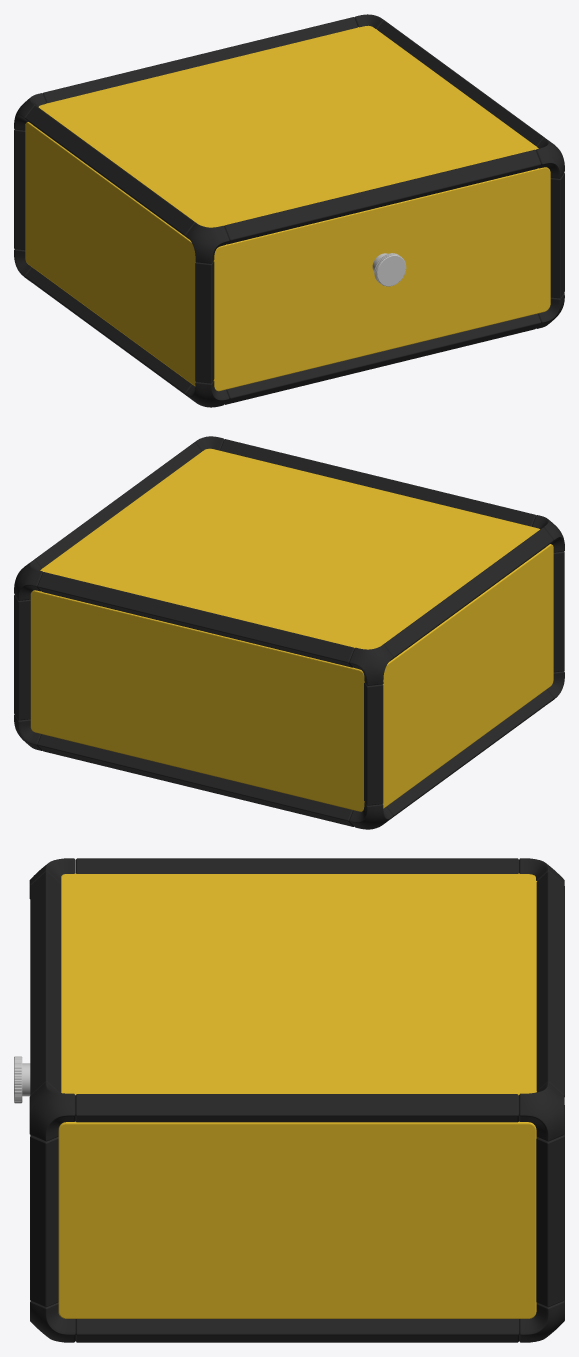
3 renders of one model, top to bottom at view 1: azimuth 30°, elevation 25°; view 2: azimuth 150°, elevation 25°; view 3: azimuth 270°, elevation 25°, orthographic. The views are drawn at different scales.
Visible parts, largest first — view 1: 420x374x154; view 2: 420x374x154; view 3: 420x374x154.
Boxes of the visible parts, x1,y1,x2,y2 form: 420x374x154: (14,14,564,407); 420x374x154: (14,436,564,829); 420x374x154: (14,858,564,1342).
Bounding box in the file's own units: 0.4977 × 0.2316 × 0.4646.
